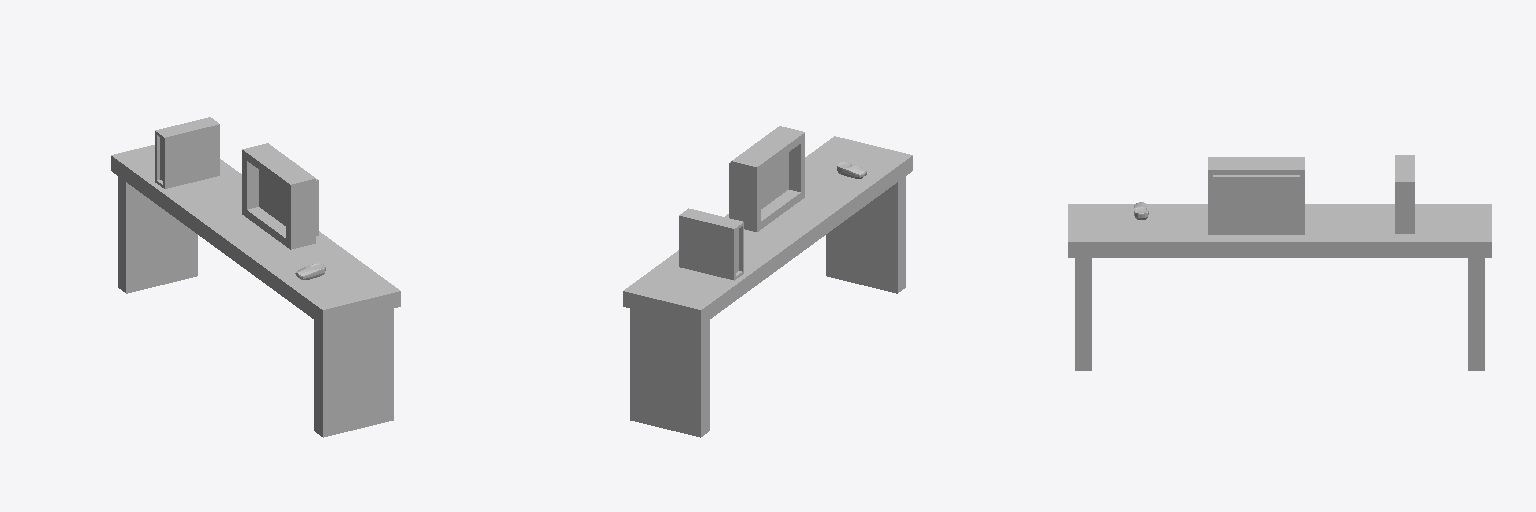
The model's file is mesa.obj.
3 renders of one model, left to right at view 1: azimuth 30°, elevation 25°; view 2: azimuth 150°, elevation 25°; view 3: azimuth 270°, elevation 25°, orthographic.
Parts seen in each view (by area): view 1: Cubo, Cubo.001, Cubo.002; view 2: Cubo, Cubo.001, Cubo.002; view 3: Cubo, Cubo.001, Cubo.002.
Part boxes in pixels (x1,y1,x2,y2): Cubo: (111, 145, 400, 437); Cubo.001: (242, 143, 318, 249); Cubo.002: (155, 117, 219, 188); Cubo: (623, 136, 912, 437); Cubo.001: (729, 126, 804, 231); Cubo.002: (679, 208, 743, 280); Cubo: (1068, 204, 1491, 370); Cubo.001: (1208, 157, 1304, 234); Cubo.002: (1395, 155, 1414, 233).
Size of the model in its own units: 4.43 by 10.55 by 20.68.